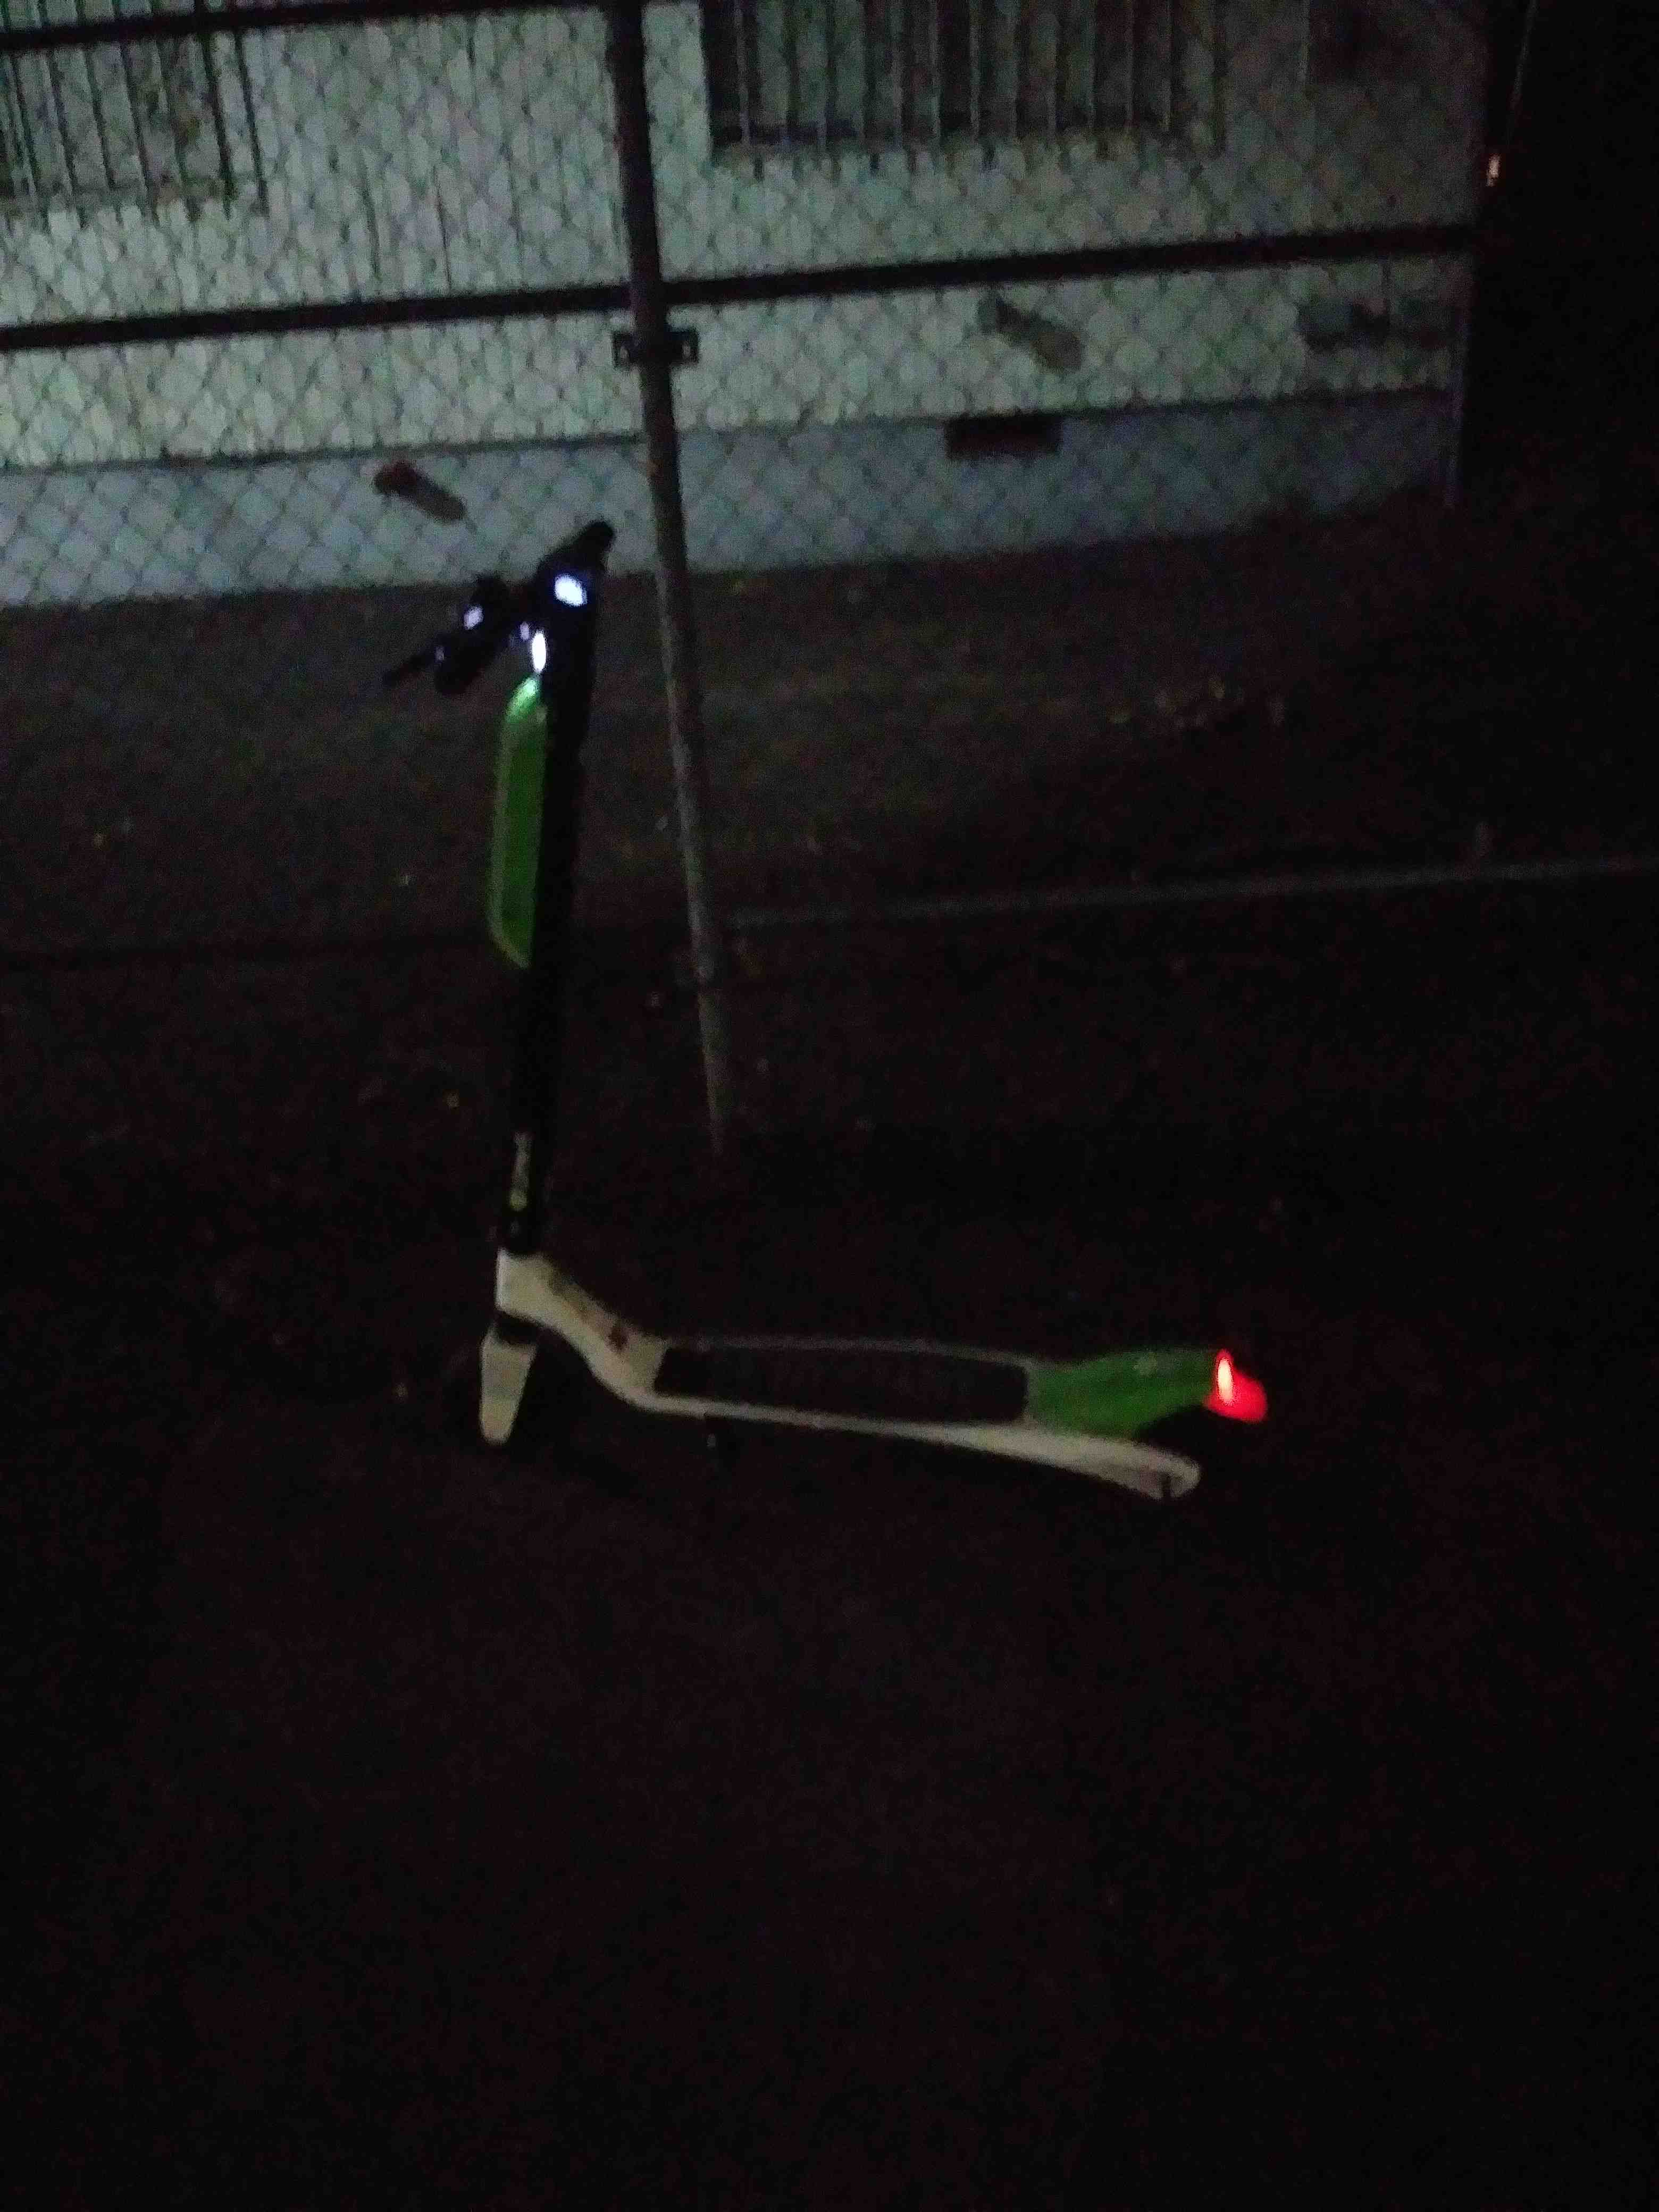scooter: (329, 272, 1314, 1538)
